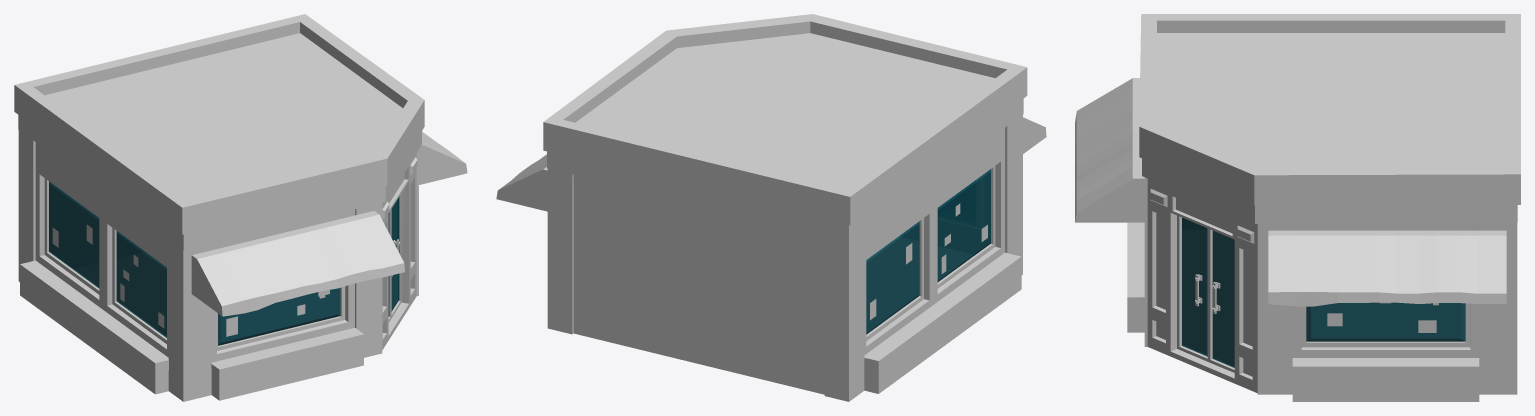
The model's file is shop_02_small.fbx.
3 renders of one model, left to right at view 1: azimuth 30°, elevation 25°; view 2: azimuth 150°, elevation 25°; view 3: azimuth 270°, elevation 25°, orthographic. The views are drawn at different scales.
Parts seen in each view (by area): view 1: shop_02_small, shop_02_small_glass; view 2: shop_02_small, shop_02_small_glass; view 3: shop_02_small, shop_02_small_glass.
Part boxes in pixels (x1,y1,x2,y2): shop_02_small: (14, 14, 467, 401); shop_02_small_glass: (49, 181, 399, 345); shop_02_small: (496, 14, 1046, 401); shop_02_small_glass: (866, 169, 990, 334); shop_02_small: (1075, 14, 1520, 401); shop_02_small_glass: (1182, 217, 1465, 367).
Size of the model in its own units: 752 by 400 by 729.
